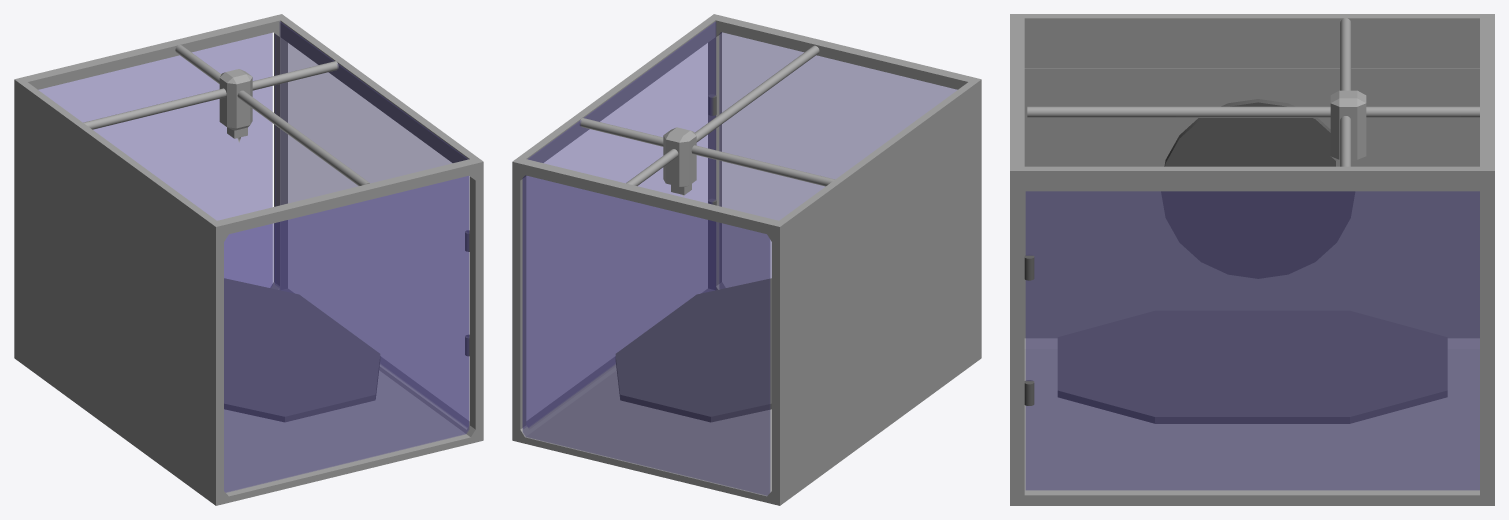
Rendered from 3dPrinter.fbx.
3 renders of one model, left to right at view 1: azimuth 30°, elevation 25°; view 2: azimuth 150°, elevation 25°; view 3: azimuth 270°, elevation 25°, orthographic. The views are drawn at different scales.
Visible parts, largest first — view 1: d_Printer_pCube16, pCube19, pCube21, pCube20, pCube17, pCylinder3, pCylinder2, pCube16; view 2: d_Printer_pCube16, pCube20, pCube21, pCube19, pCube17, pCylinder3, pCylinder2, pCube16; view 3: d_Printer_pCube16, pCube21, pCube17, pCylinder4, pCylinder2, pCube16, pCylinder3.
Boxes of the visible parts, bbox=[...] form: d_Printer_pCube16: bbox=[14, 14, 483, 505]; pCube19: bbox=[224, 176, 469, 492]; pCube21: bbox=[275, 21, 468, 427]; pCube20: bbox=[39, 33, 272, 287]; pCube17: bbox=[224, 278, 380, 422]; pCylinder3: bbox=[83, 61, 338, 129]; pCylinder2: bbox=[175, 45, 369, 185]; pCube16: bbox=[219, 69, 252, 138]; d_Printer_pCube16: bbox=[512, 14, 981, 505]; pCube20: bbox=[522, 175, 770, 495]; pCube21: bbox=[526, 21, 716, 427]; pCube19: bbox=[719, 32, 957, 288]; pCube17: bbox=[615, 278, 771, 422]; pCylinder3: bbox=[579, 118, 834, 186]; pCylinder2: bbox=[626, 45, 819, 185]; pCube16: bbox=[663, 127, 696, 195]; d_Printer_pCube16: bbox=[1010, 14, 1494, 505]; pCube21: bbox=[1025, 191, 1479, 490]; pCube17: bbox=[1057, 310, 1447, 423]; pCylinder4: bbox=[1161, 99, 1355, 278]; pCylinder2: bbox=[1027, 106, 1479, 117]; pCube16: bbox=[1330, 90, 1366, 166]; pCylinder3: bbox=[1340, 18, 1351, 166].
Size of the model in its own units: 3.81 by 3.95 by 4.98.
